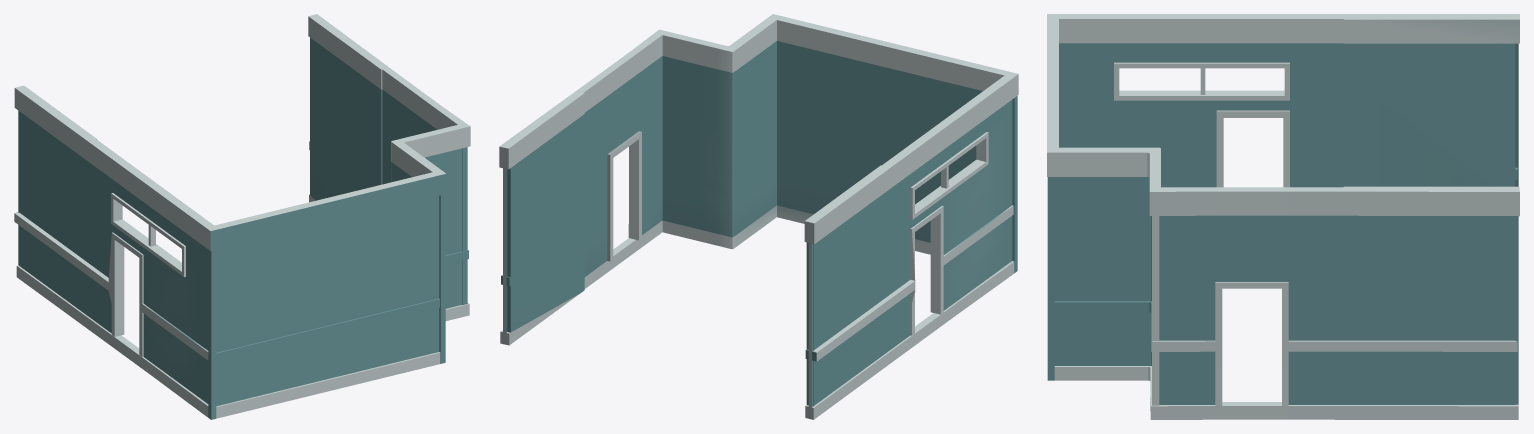
Rendered from market_walls.fbx.
The picture shows the model from 3 angles, left to right: view 1: azimuth 30°, elevation 25°; view 2: azimuth 150°, elevation 25°; view 3: azimuth 270°, elevation 25°; orthographic projection. The views are drawn at different scales.
Parts seen in each view (by area): view 1: Cube.004; view 2: Cube.004; view 3: Cube.004.
Boxes of the visible parts, bbox=[...] form: Cube.004: bbox=[14, 14, 470, 419]; Cube.004: bbox=[499, 14, 1018, 419]; Cube.004: bbox=[1047, 14, 1519, 419].
Size of the model in its own units: 914 by 544 by 1021.
